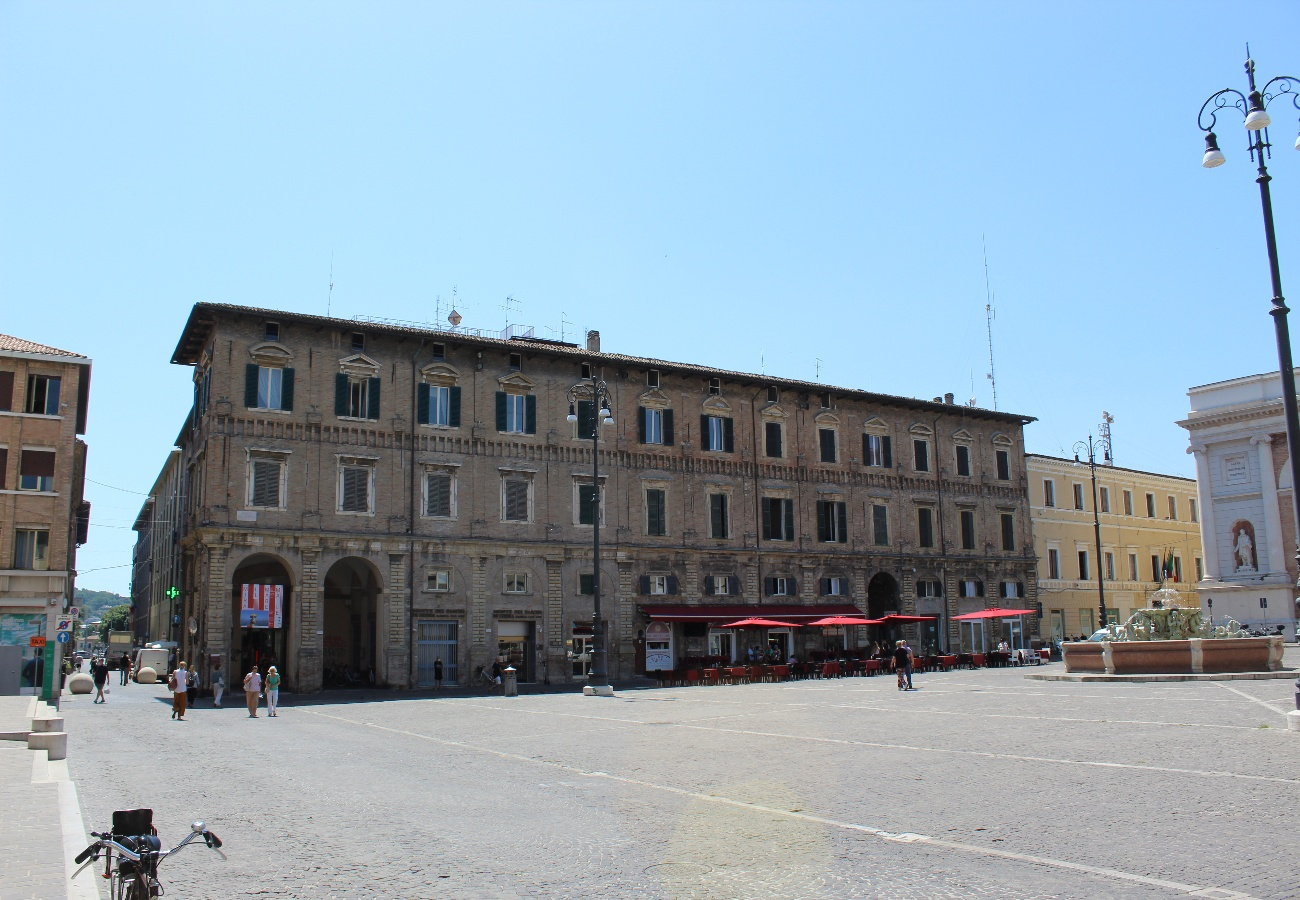Palazzo Baviera: (172, 302, 1044, 698)
